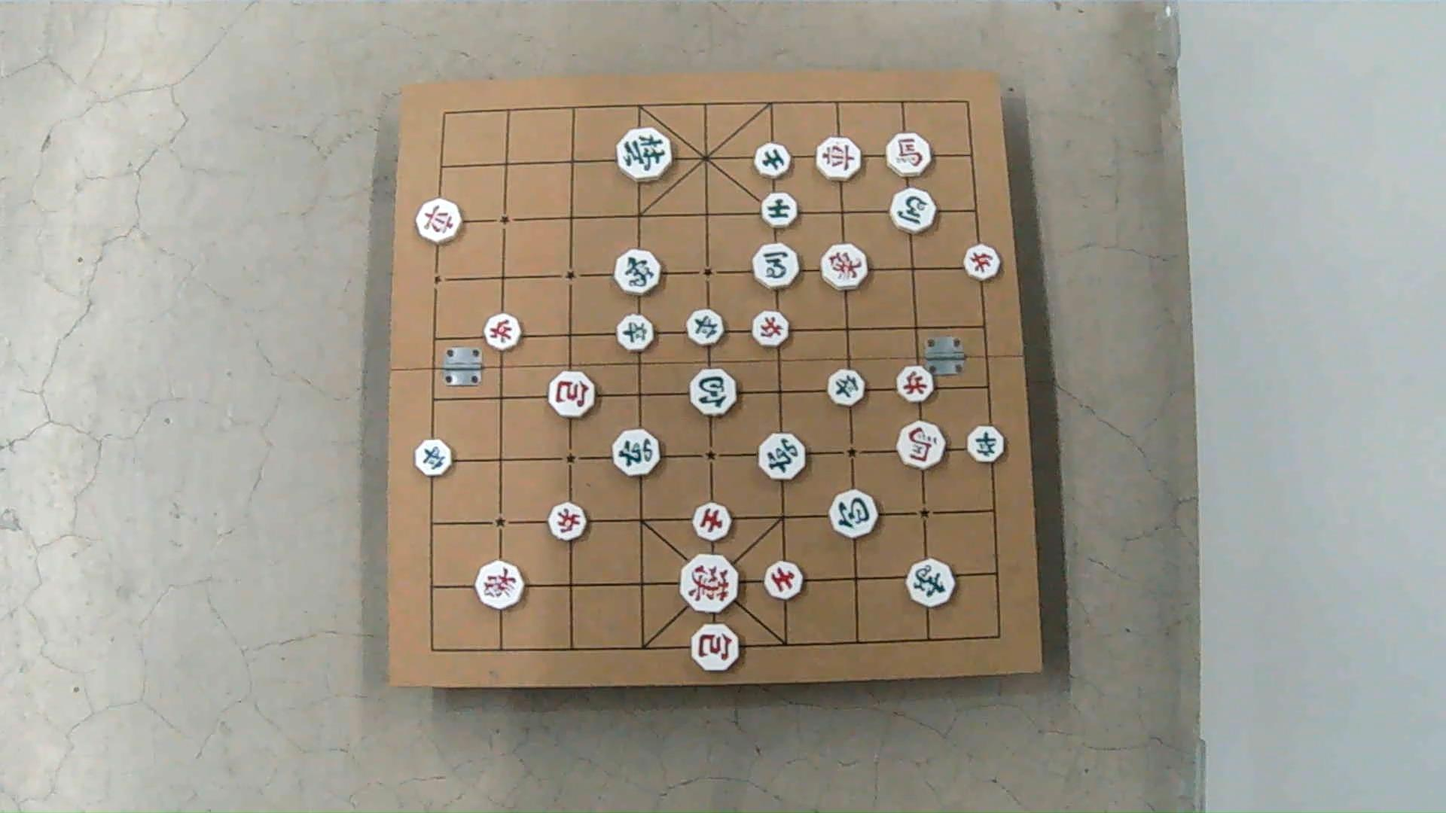cha_green: (759, 434, 807, 481), (613, 430, 660, 477)
cha_red: (416, 198, 461, 242), (814, 139, 861, 181)
jol_green: (618, 315, 655, 352), (413, 440, 450, 477), (830, 370, 867, 407), (968, 425, 1005, 462), (687, 309, 722, 345)
jol_red: (548, 502, 587, 540), (895, 366, 934, 404), (483, 315, 520, 352), (752, 310, 789, 346), (964, 244, 999, 280)
ma_green: (752, 244, 799, 290), (889, 187, 934, 233)
ma_red: (897, 423, 945, 470), (883, 132, 929, 176)
po_green: (832, 489, 880, 537), (690, 370, 737, 418)
po_red: (691, 623, 739, 670), (550, 372, 596, 419)
sa_green: (756, 142, 793, 178), (763, 192, 800, 227)
sa_red: (765, 561, 803, 600), (693, 504, 731, 541)
sang_green: (908, 560, 956, 607), (617, 250, 663, 296)
sang_red: (474, 559, 525, 610), (821, 245, 866, 291)
wang_green: (617, 127, 671, 180)
wang_red: (681, 554, 740, 612)
